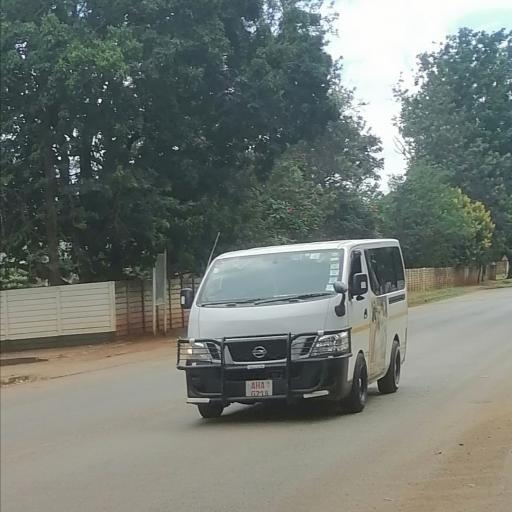number-plates: (247, 379, 274, 398)
